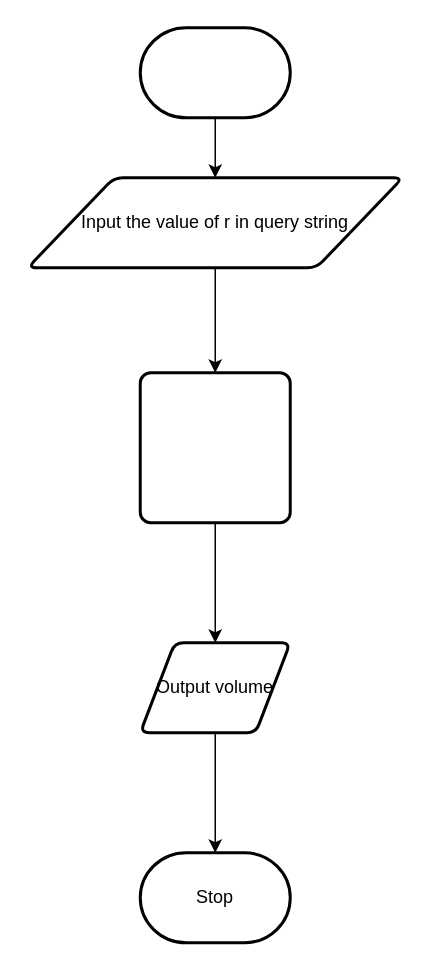
Some shapes in this 429 by 969 pixel diagram are drawn without their labels. The shapes that lost their labels are listed below. From the top down, each one's centre as x and y in pixels, then its label:
pixel 214 72: Start
pixel 214 447: volume=4/ 3*π*r^3
